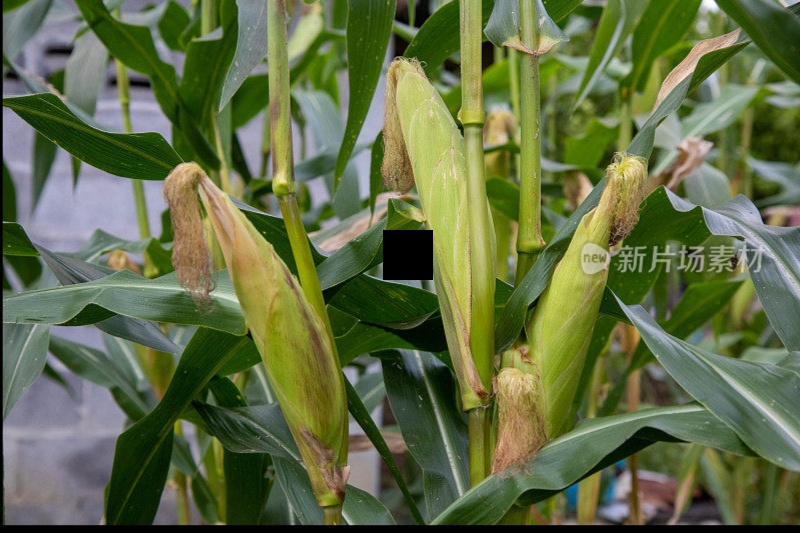corn_plant: (151, 157, 349, 497), (502, 146, 645, 470), (376, 61, 498, 408)
